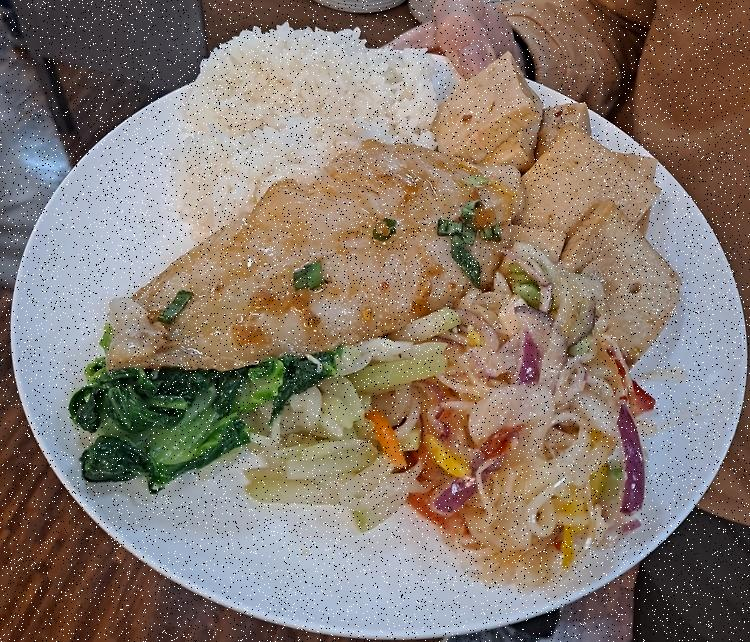big fried chicken leg: (6, 37, 750, 642)
big herbal chicken leg: (175, 21, 443, 237)
braised fish fillet: (449, 61, 685, 366), (430, 258, 650, 584), (74, 356, 338, 493), (253, 332, 429, 526)
braised pork ribs: (98, 139, 528, 372)
